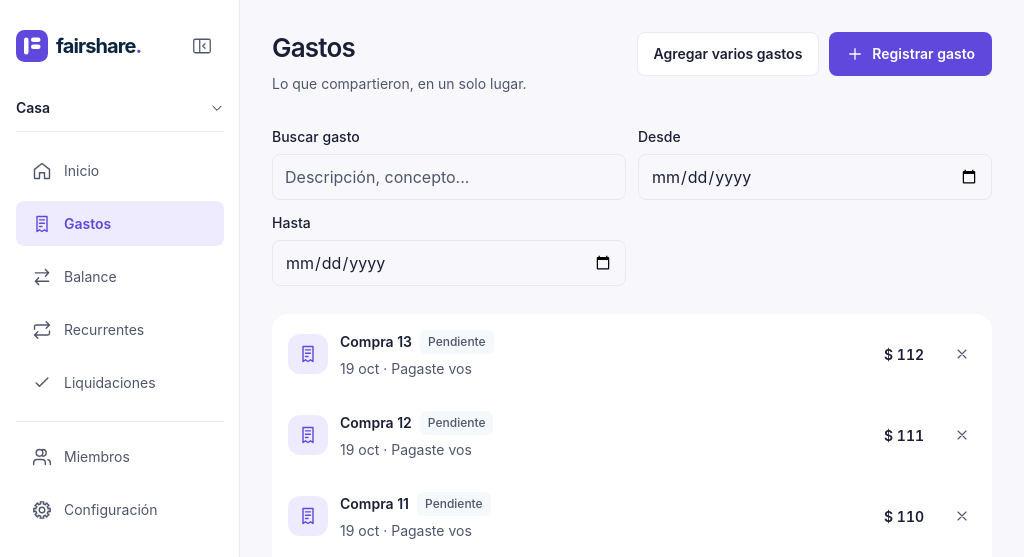
Test case: filtra sobre todos los gastos y vuelve a la primera página sin perder el tamaño elegido
This screenshot has width=1024, height=557.
In the search field: (449, 176) [272,154,626,200], type "Único"
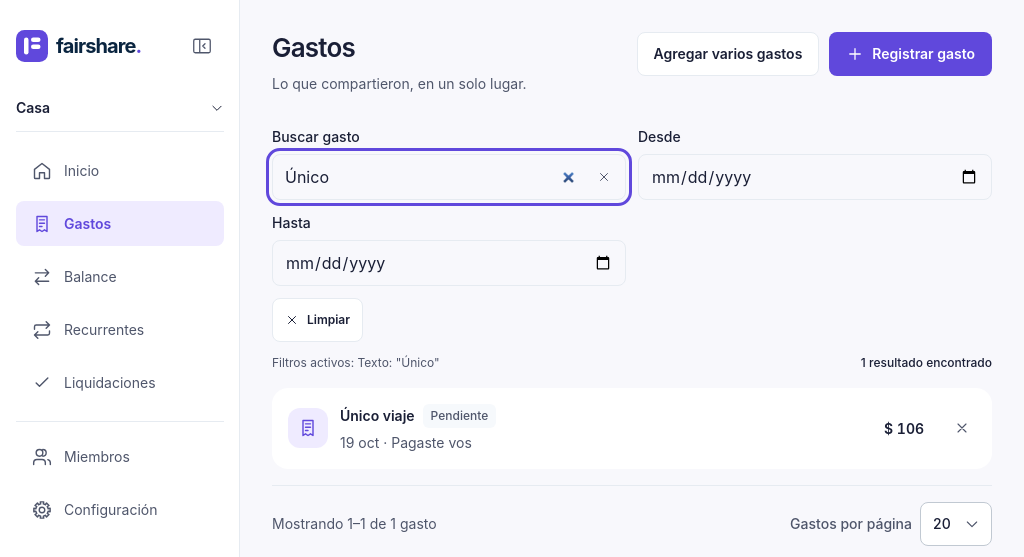
Expected: the button with aria-label "Ver detalle de Único viaje" is shown, [272,388,940,468]
Now the text "Mostrando 1–1 de 1 gasto" is shown, box [272,515,437,532]
Click the button with aria-label "Limpiar todos los filtros": (318, 320) [272,298,363,342]
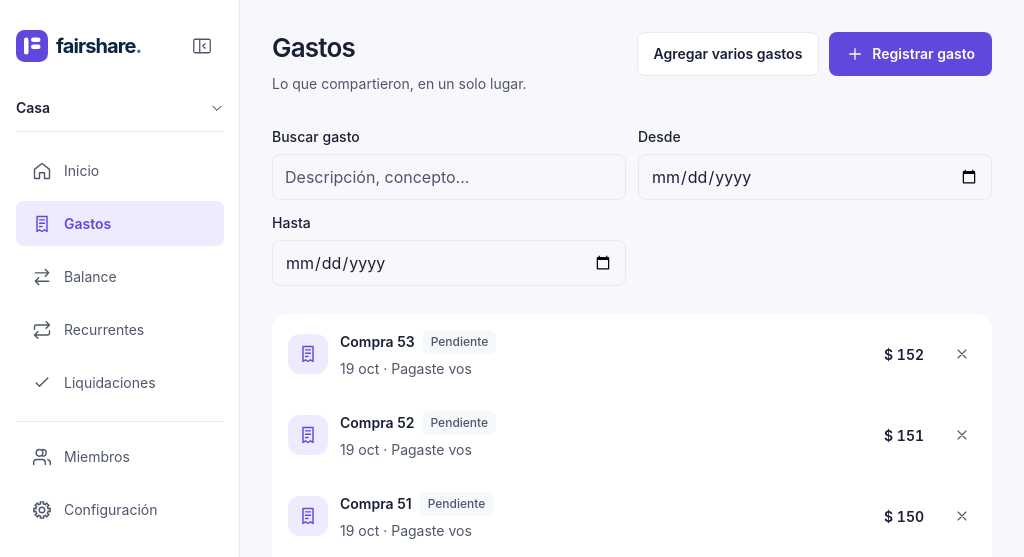
In the search field: (449, 176) [272,154,626,200], type "Inexistente"
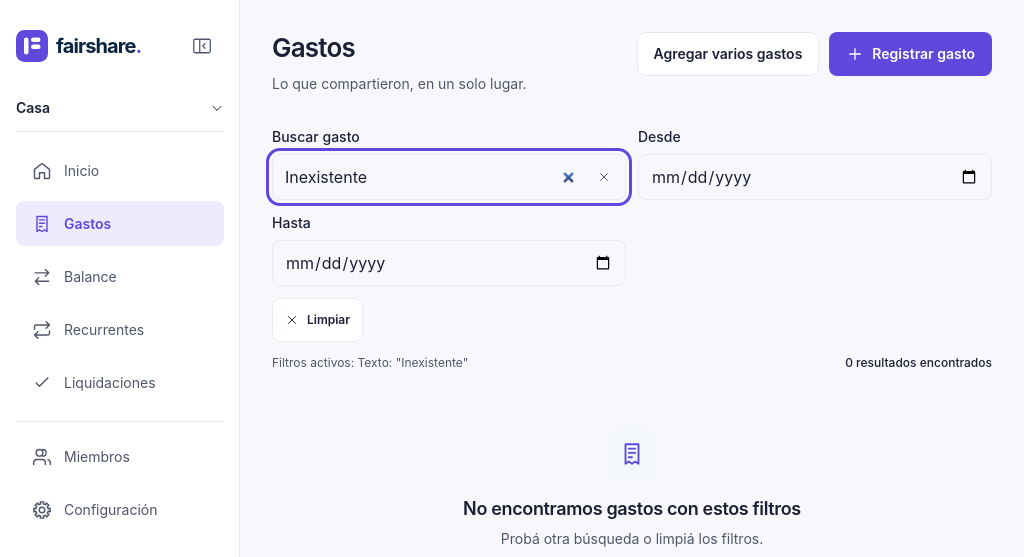
Expected: the label labelled "Gastos por página" is not shown
Now the heading "No encontramos gastos con estos filtros" is shown, box [463,498,801,518]
